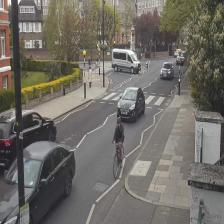person: (112, 117, 124, 164)
